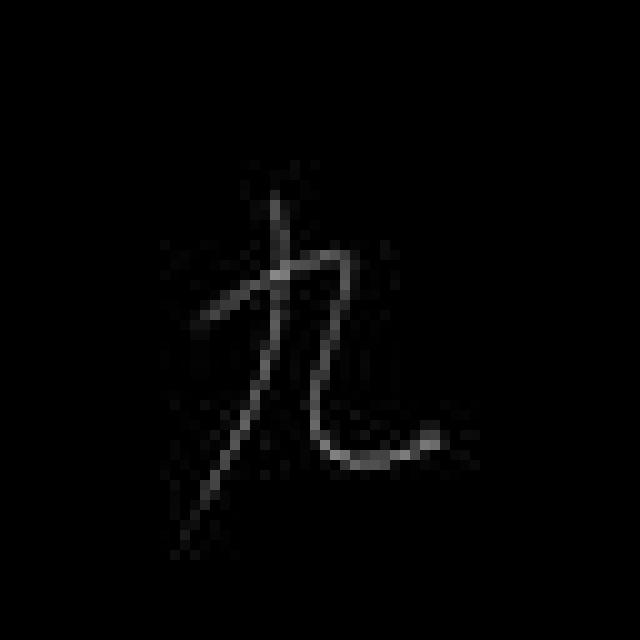9 -nine-: (184, 188, 446, 508)
